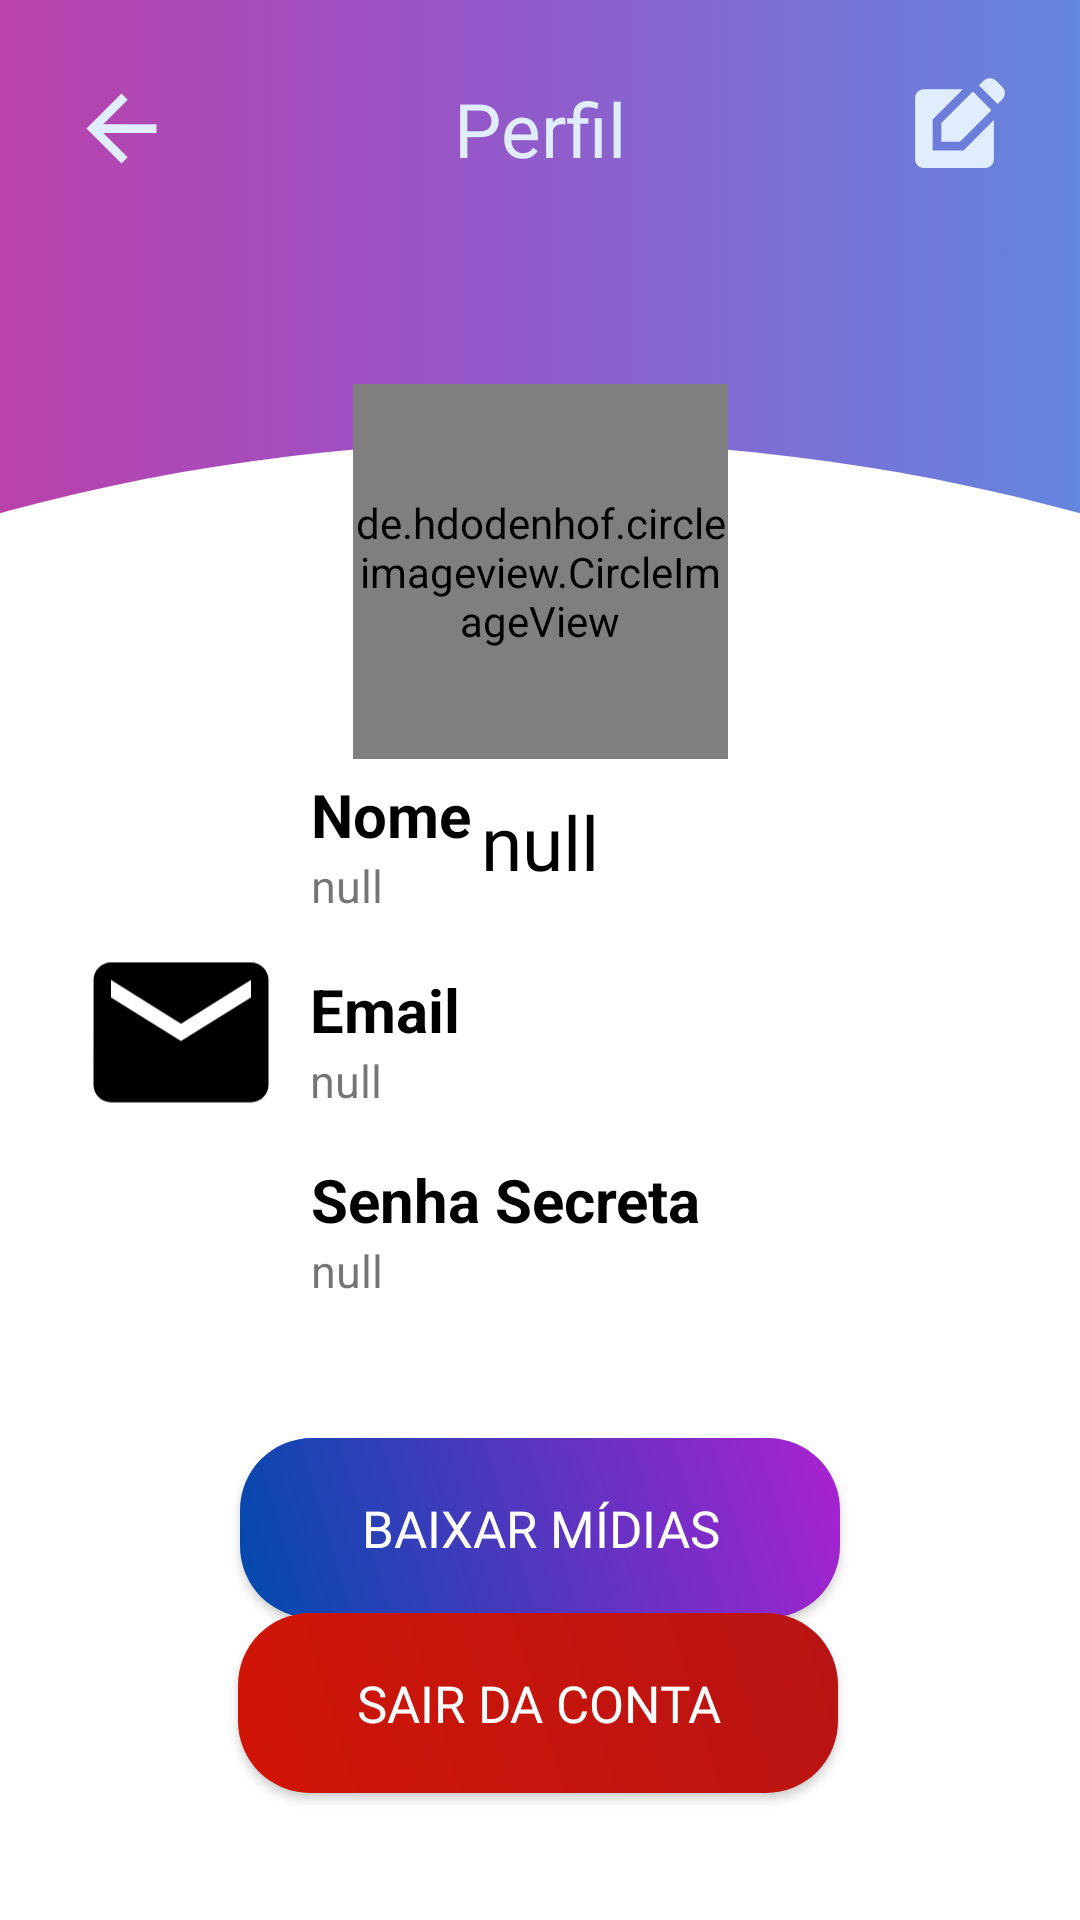

Locate icon controls on the screen. Image size 1080px×1920px, boxes as rect(x1, y1, x2, y2).
arrowback: rect(86, 93, 157, 164)
